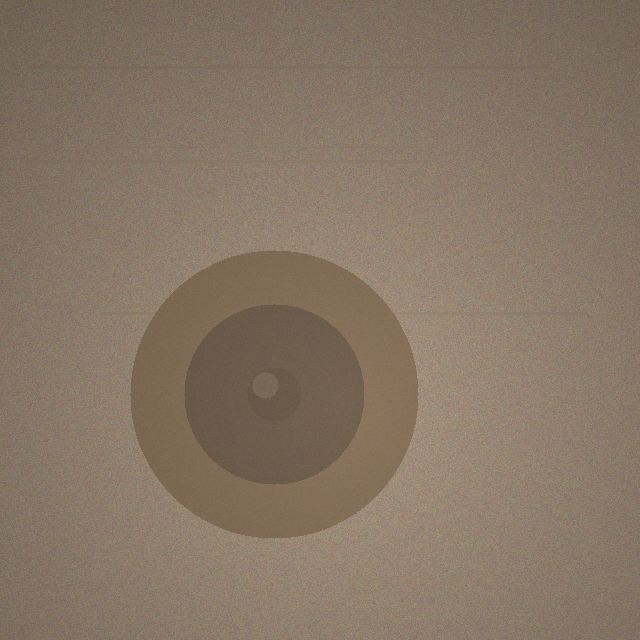good: (130, 250, 418, 538)
